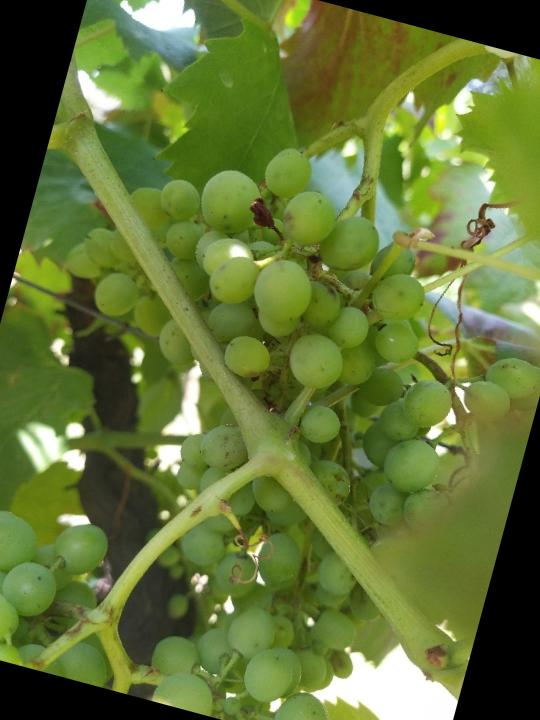grape: (0, 94, 540, 720)
